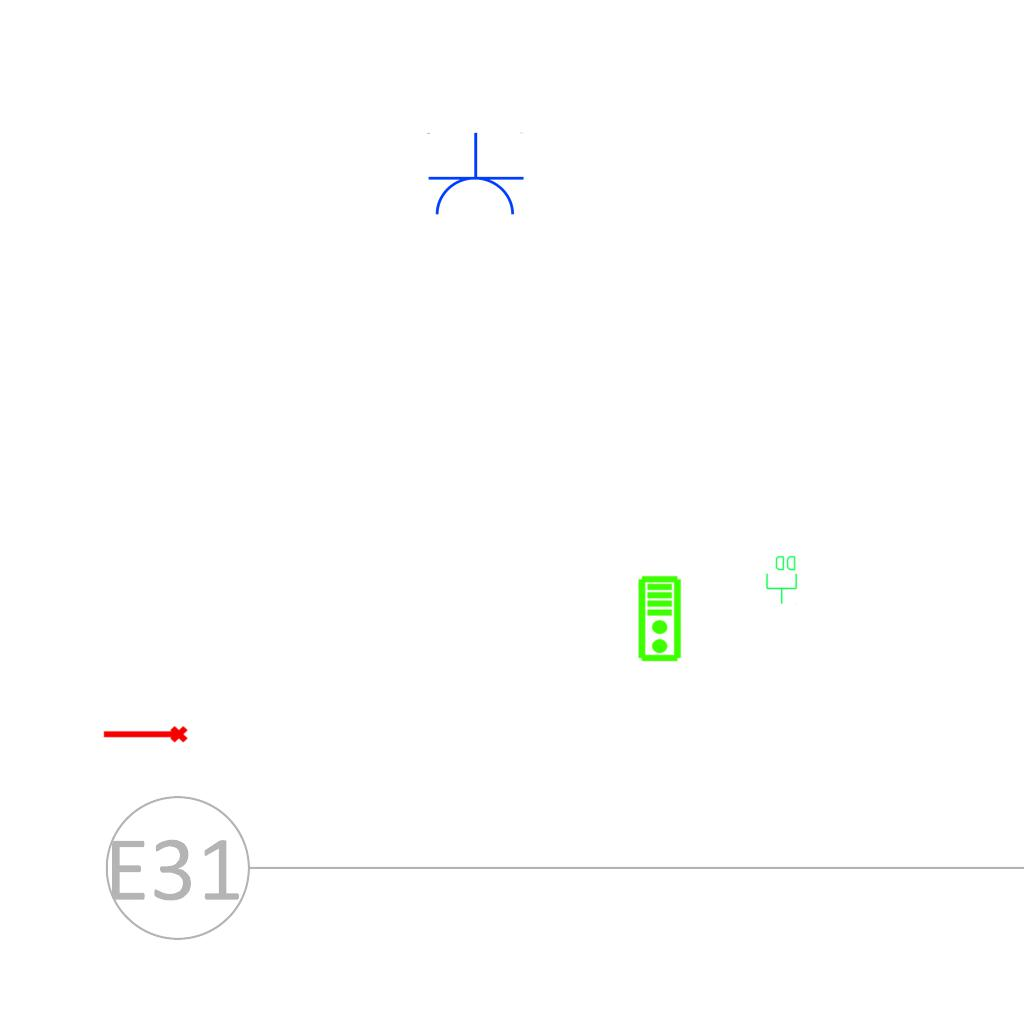ASR_Ansaugoeffnung: (101, 724, 189, 747)
Datenanschluss_zweifach: (765, 554, 799, 605)
Gegensprechanlage_mit_Video: (637, 575, 684, 663)
Schukosteckdose_einfach: (425, 132, 525, 219)
